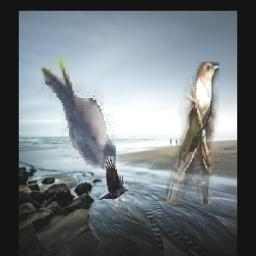Crow: (99, 157, 128, 201)
Cuckoo: (166, 63, 219, 205)
Swallow: (41, 58, 116, 171)
